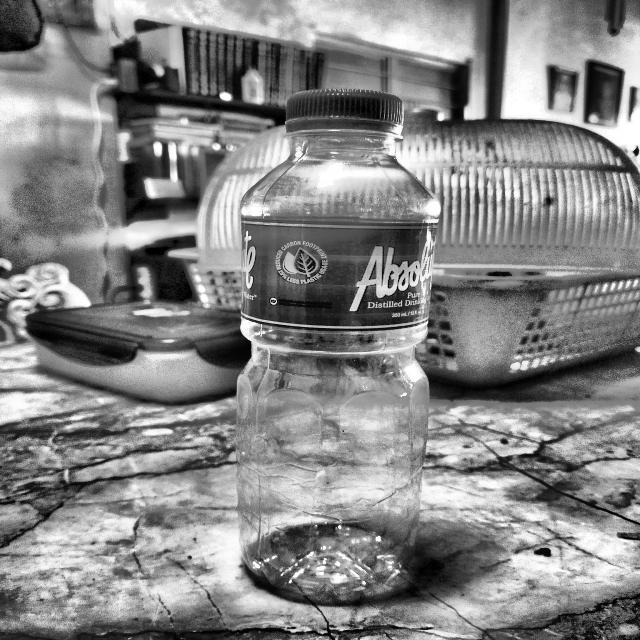Plastic-Bottle: (236, 86, 447, 596)
